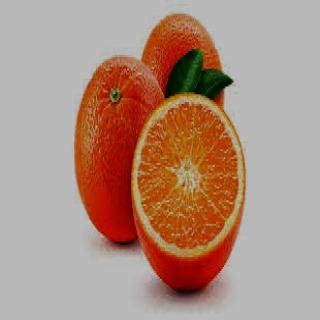orange: (124, 92, 251, 304), (66, 55, 176, 253), (138, 0, 248, 167)
